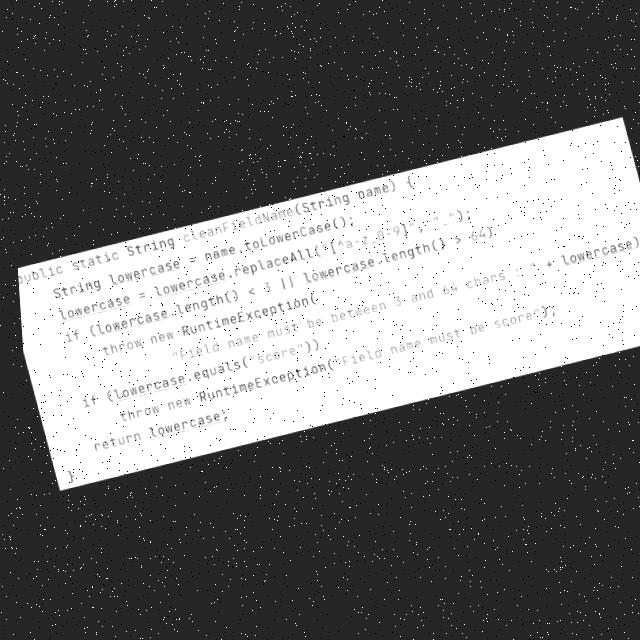code_screen: (18, 118, 640, 489)
